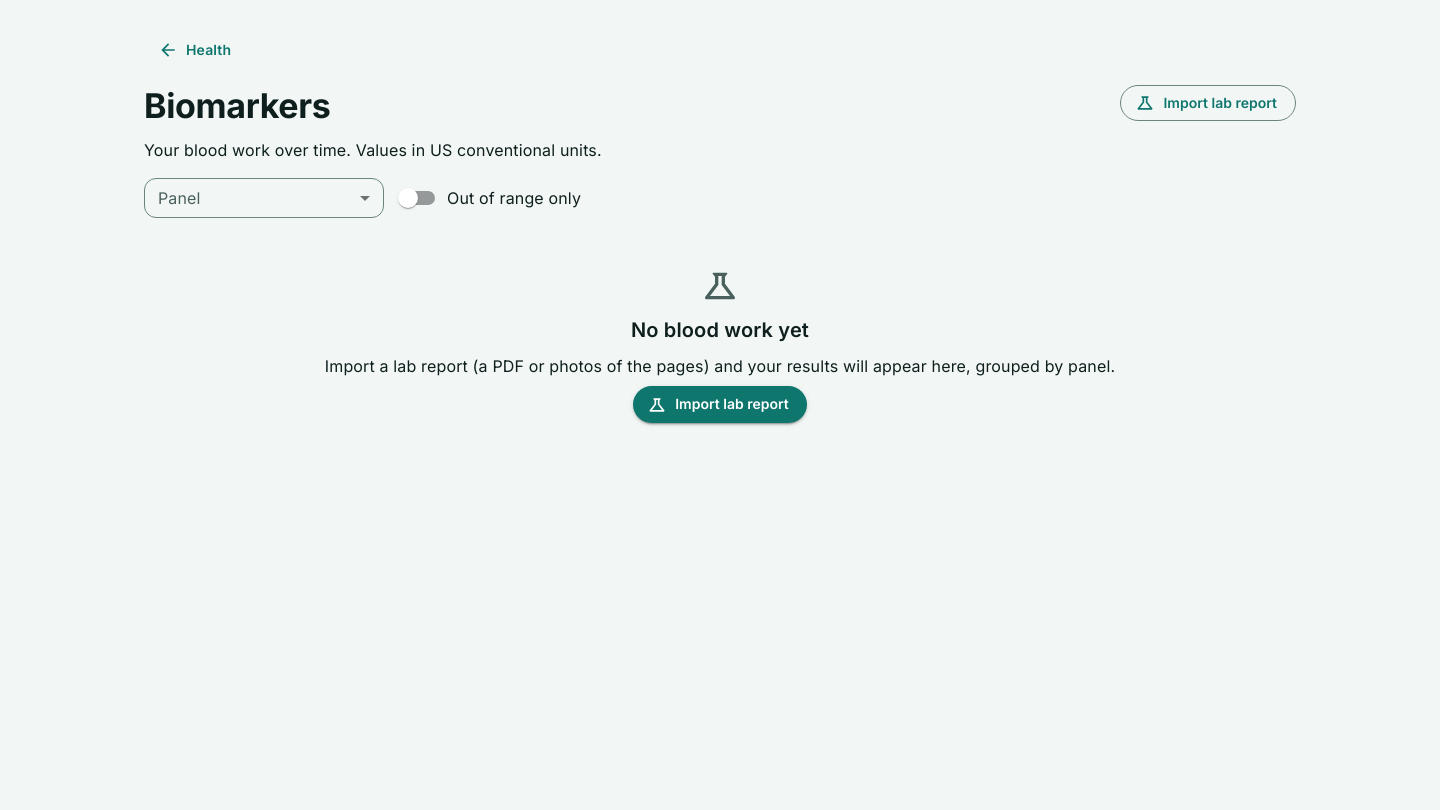
Test: BiomarkersPage › with no results, the empty state leads to Import lab report
Expected: the heading "No blood work yet" is shown, [631,314,809,346]
Expected: the text "Import a lab report" is shown, [325,356,1115,376]
Click the button "Import lab report" below "No blood work yet".
click(720, 405)  # box [633,386,807,423]
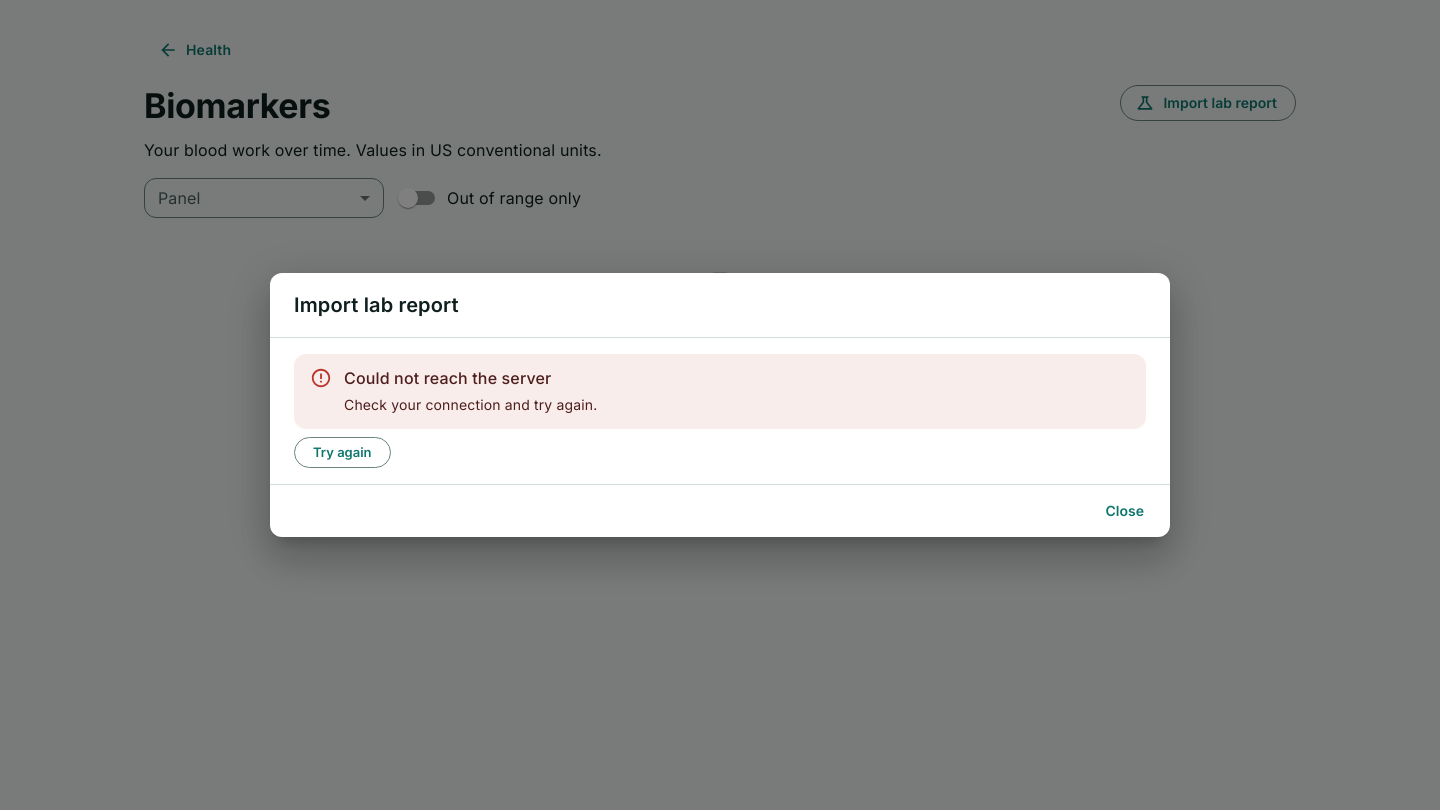
Expected: the dialog "Import lab report" is shown, [270,273,1170,538]
